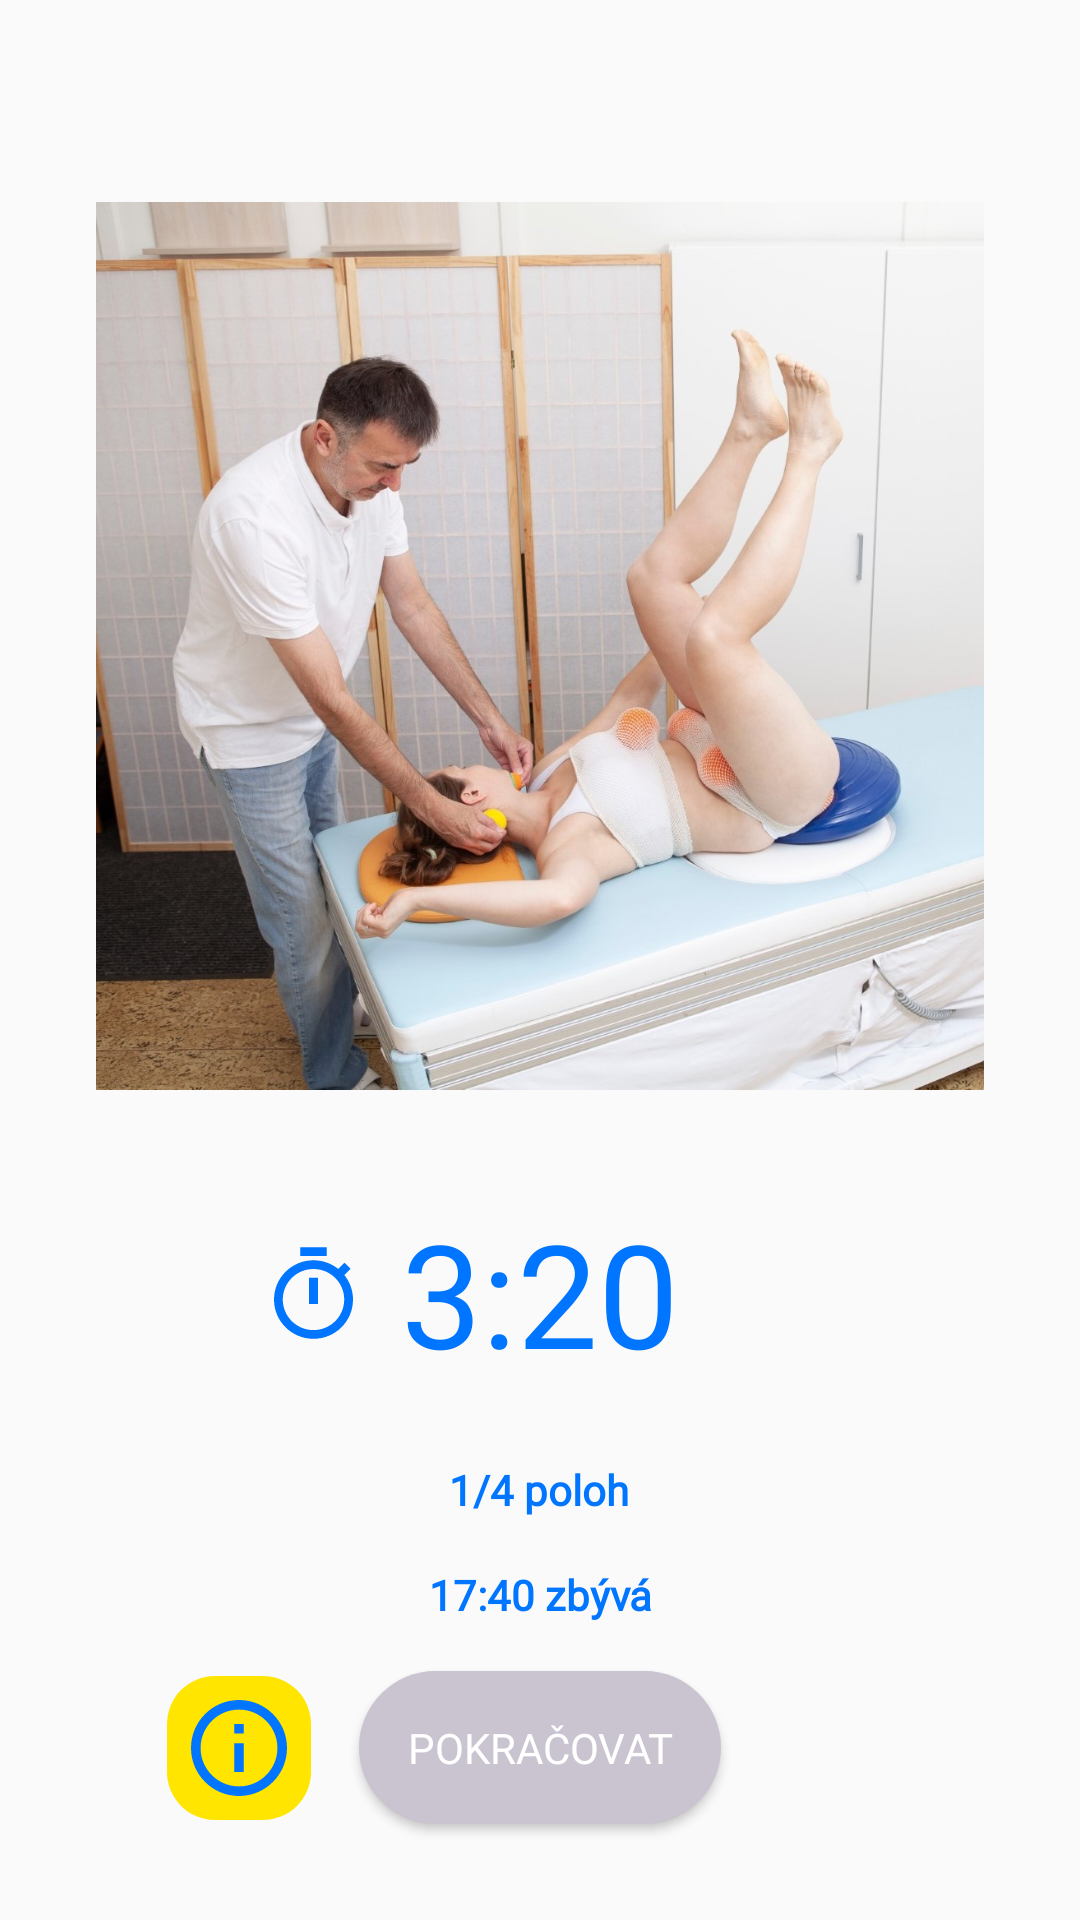

Screen size 1080×1920. Icon name, then its box in pixels as (left=x1, top=y1, right=x2, bottom=y2):
info: (left=167, top=1676, right=311, bottom=1820)
timer: (left=274, top=1247, right=353, bottom=1339)
